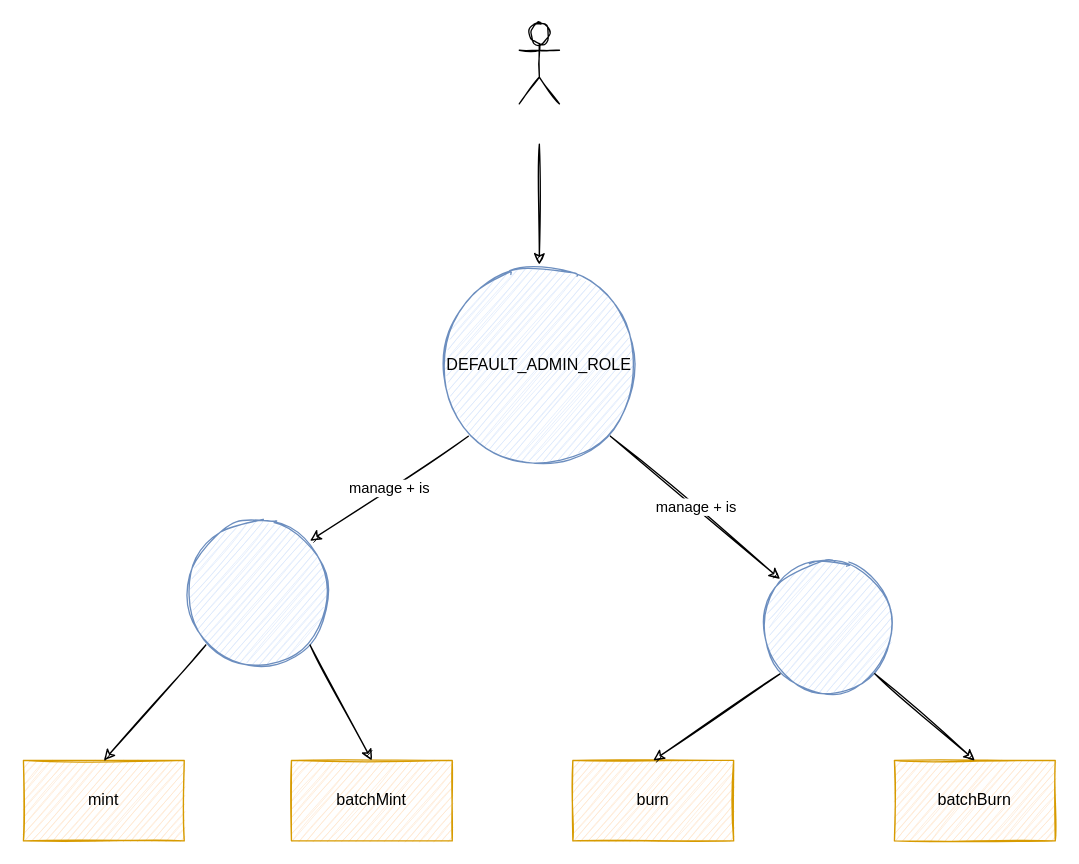
Image size: 1079x864. Some labels were removed from this diagram. The box of each missing label's shape, as (x1, y1, x2, y2) in pixels:
Admin (Can be several Ethereum accounts): (518, 22, 559, 104)
BURNER_ROLE: (759, 558, 894, 693)
MINTER_ROLE: (183, 518, 332, 667)
